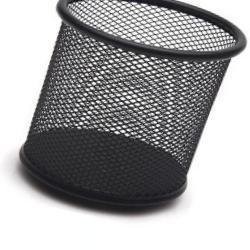Bote de Basura: (27, 0, 246, 203)
